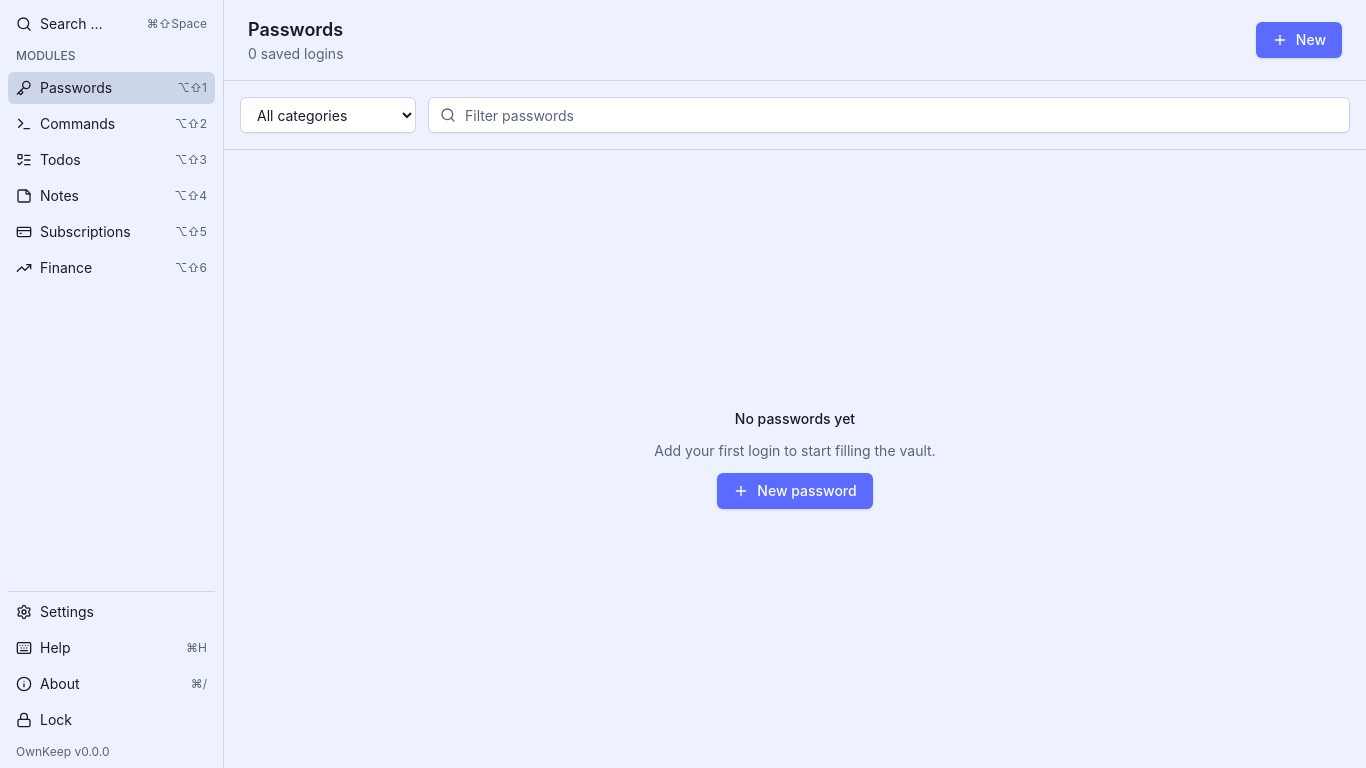
Test: Dashboard › renders the finance module pane with its empty state
Click the button "Finance ⌥⇧6" at (112, 268), box [8,252,215,284]
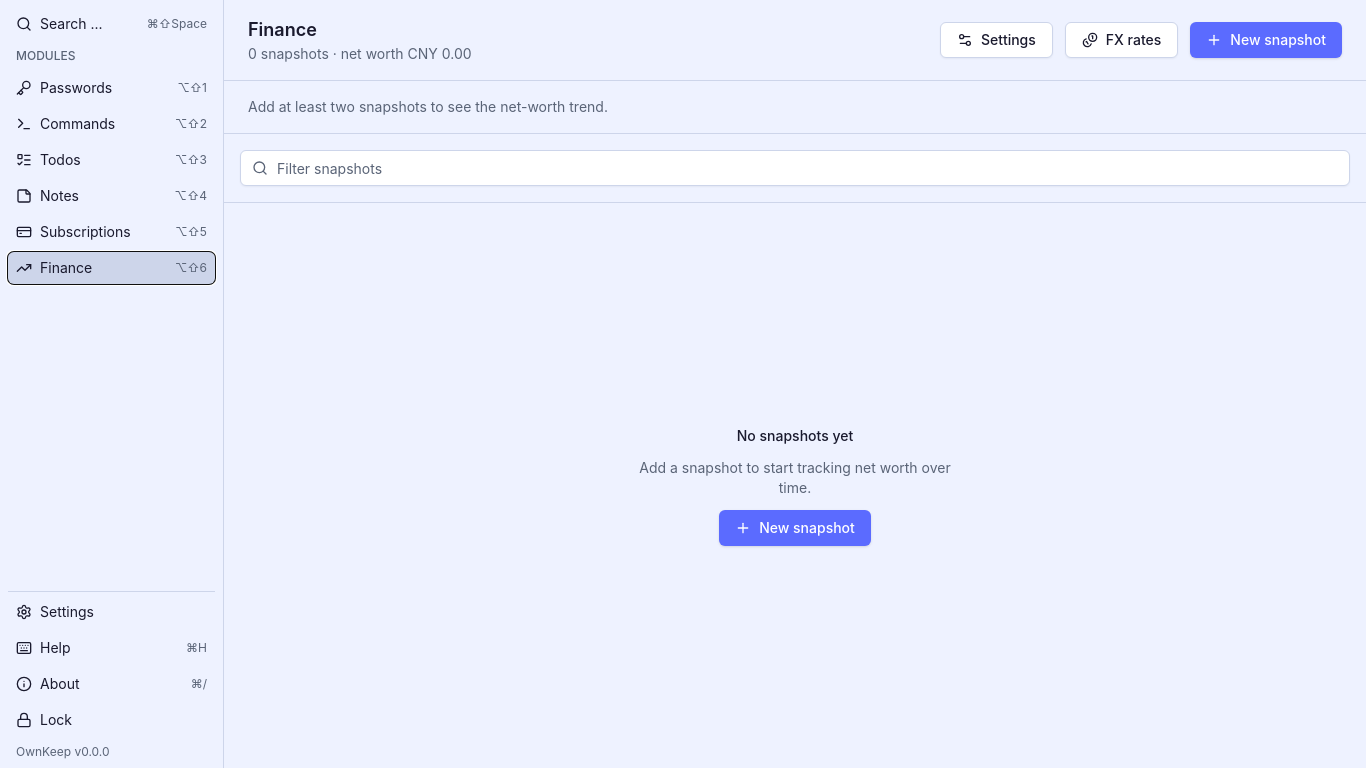
Expected: the heading "Finance" is shown, [248,19,317,40]
Expected: the text "No snapshots yet" is shown, [737,426,853,446]
